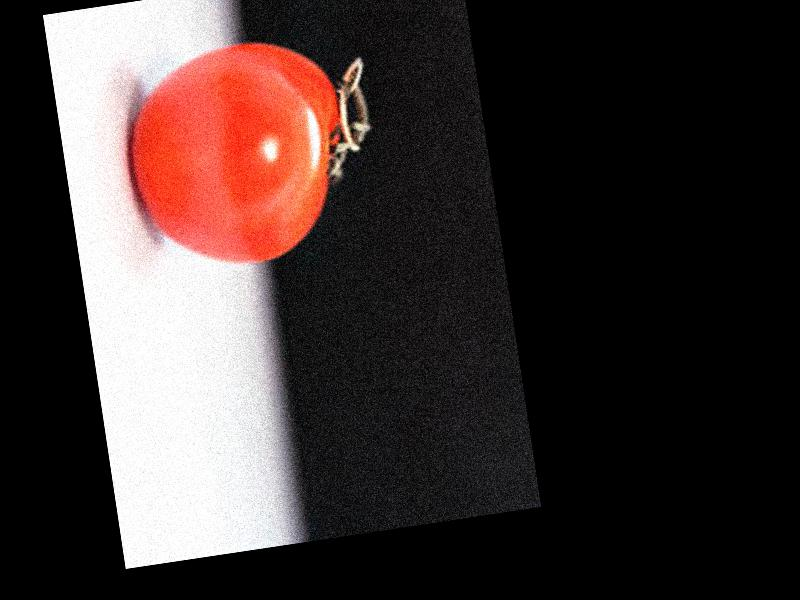Tomato: (116, 30, 360, 279)
